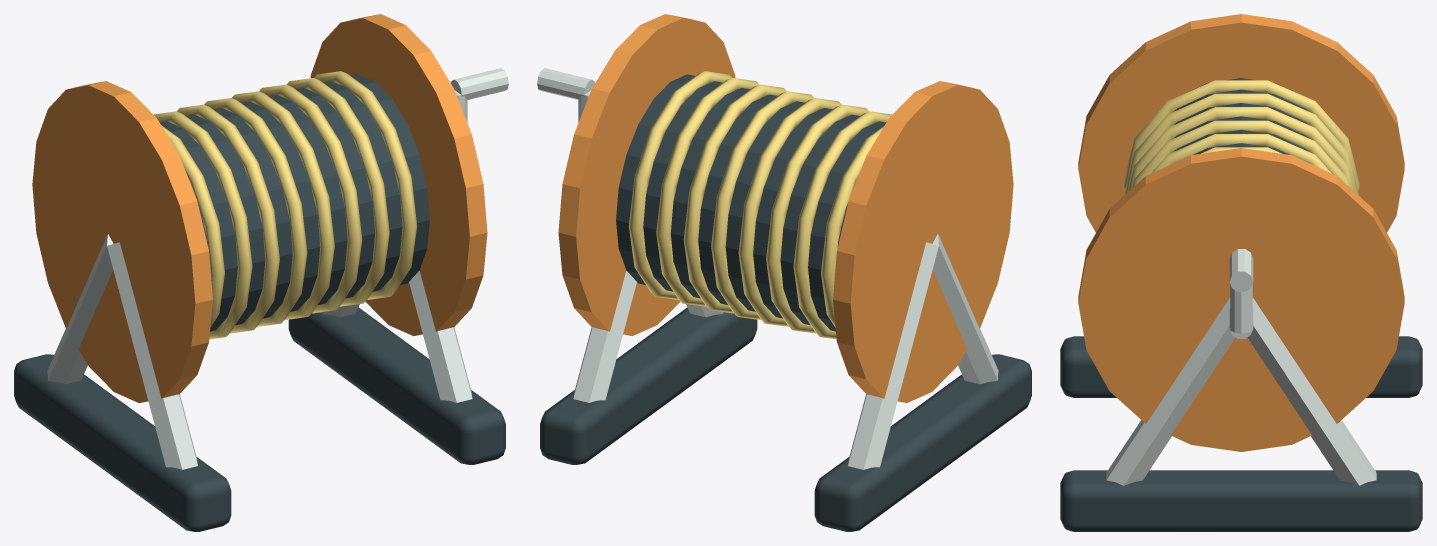
Rendered from diving-and-underwater-salvage-surface-supply-reel-6dd2a6a2__28458.glb.
3 views of the same model, side by side, from view 1: azimuth 30°, elevation 25°; view 2: azimuth 150°, elevation 25°; view 3: azimuth 270°, elevation 25° (orthographic).
Visible parts, largest first — view 1: surface-supply-reel-orange, surface-supply-reel-dark, surface-supply-reel-yellow, surface-supply-reel-pale; view 2: surface-supply-reel-orange, surface-supply-reel-dark, surface-supply-reel-yellow, surface-supply-reel-pale; view 3: surface-supply-reel-orange, surface-supply-reel-dark, surface-supply-reel-pale, surface-supply-reel-yellow.
Part boxes in pixels (x1,y1,x2,y2): surface-supply-reel-orange: (32, 14, 487, 402); surface-supply-reel-dark: (14, 74, 505, 531); surface-supply-reel-yellow: (153, 71, 417, 339); surface-supply-reel-pale: (47, 68, 508, 469); surface-supply-reel-orange: (558, 14, 1013, 402); surface-supply-reel-dark: (540, 74, 1031, 531); surface-supply-reel-yellow: (628, 71, 892, 339); surface-supply-reel-pale: (537, 68, 998, 469); surface-supply-reel-orange: (1078, 14, 1404, 451); surface-supply-reel-dark: (1060, 78, 1422, 531); surface-supply-reel-pale: (1106, 249, 1376, 485); surface-supply-reel-yellow: (1123, 80, 1359, 195).
Bounding box in the file's own units: 1.03 × 0.91 × 0.8.
